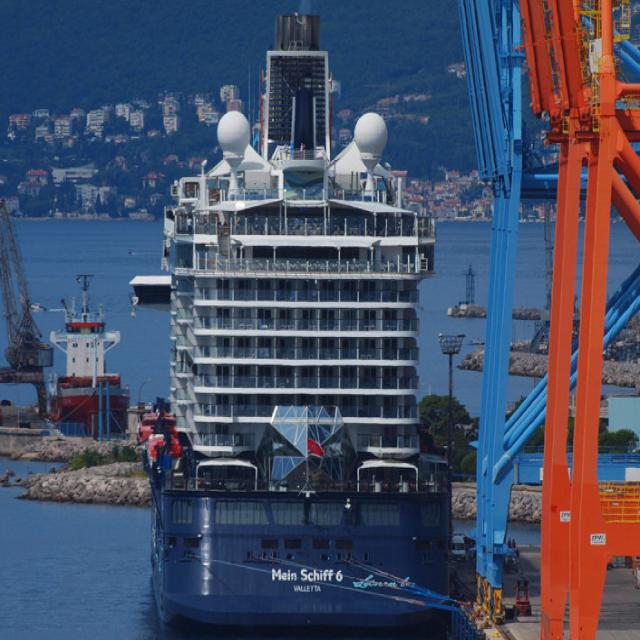cruises: (127, 8, 462, 640)
